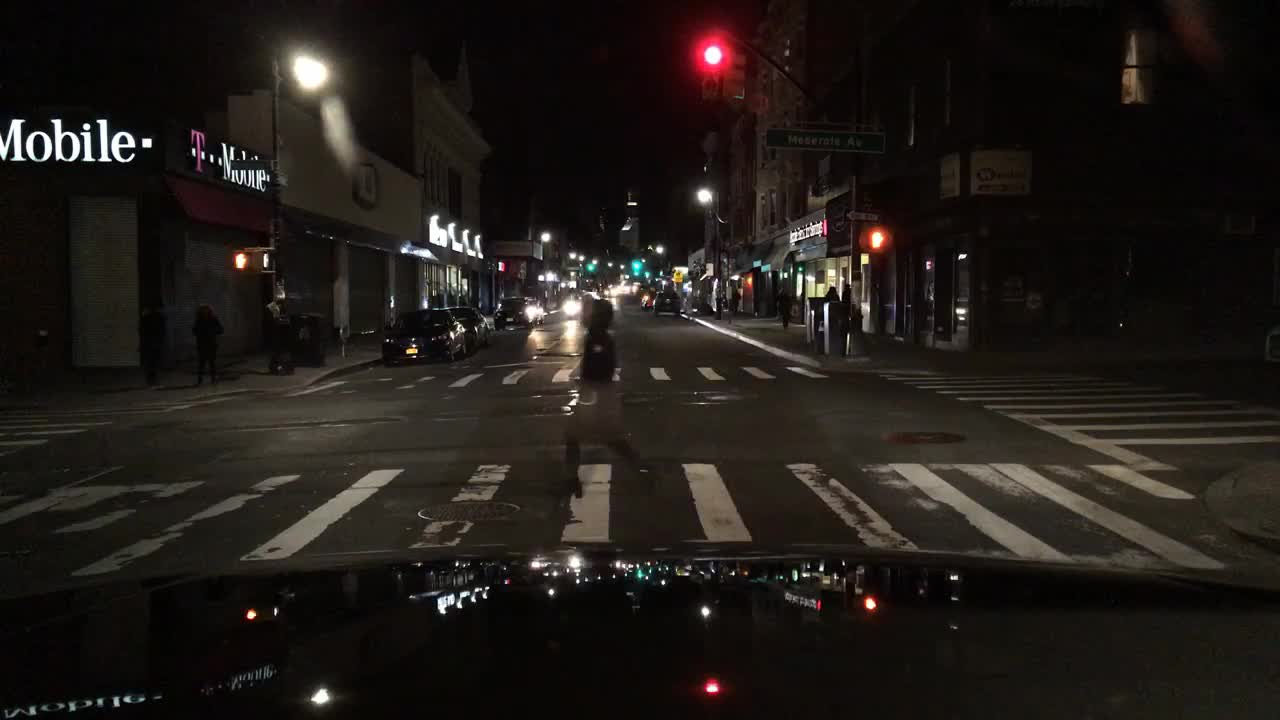car: (382, 306, 469, 365), (446, 304, 495, 350), (488, 292, 538, 328), (559, 287, 598, 315), (655, 289, 681, 315), (530, 296, 548, 326), (636, 291, 654, 306), (631, 285, 646, 294)
person: (548, 296, 663, 496), (185, 304, 226, 386), (134, 299, 167, 391), (263, 297, 297, 376), (773, 285, 793, 327), (728, 282, 742, 314), (820, 283, 840, 299)
traffic light: (724, 46, 746, 106), (699, 30, 719, 95), (863, 227, 889, 254), (255, 248, 273, 272), (232, 250, 251, 272), (584, 260, 597, 273), (630, 260, 640, 273)
traffic sign: (763, 125, 886, 154), (843, 208, 880, 223), (228, 159, 272, 170), (747, 93, 767, 115), (672, 268, 686, 284)
